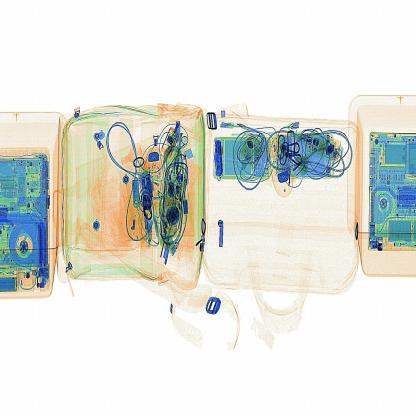knife: (212, 132, 232, 181)
